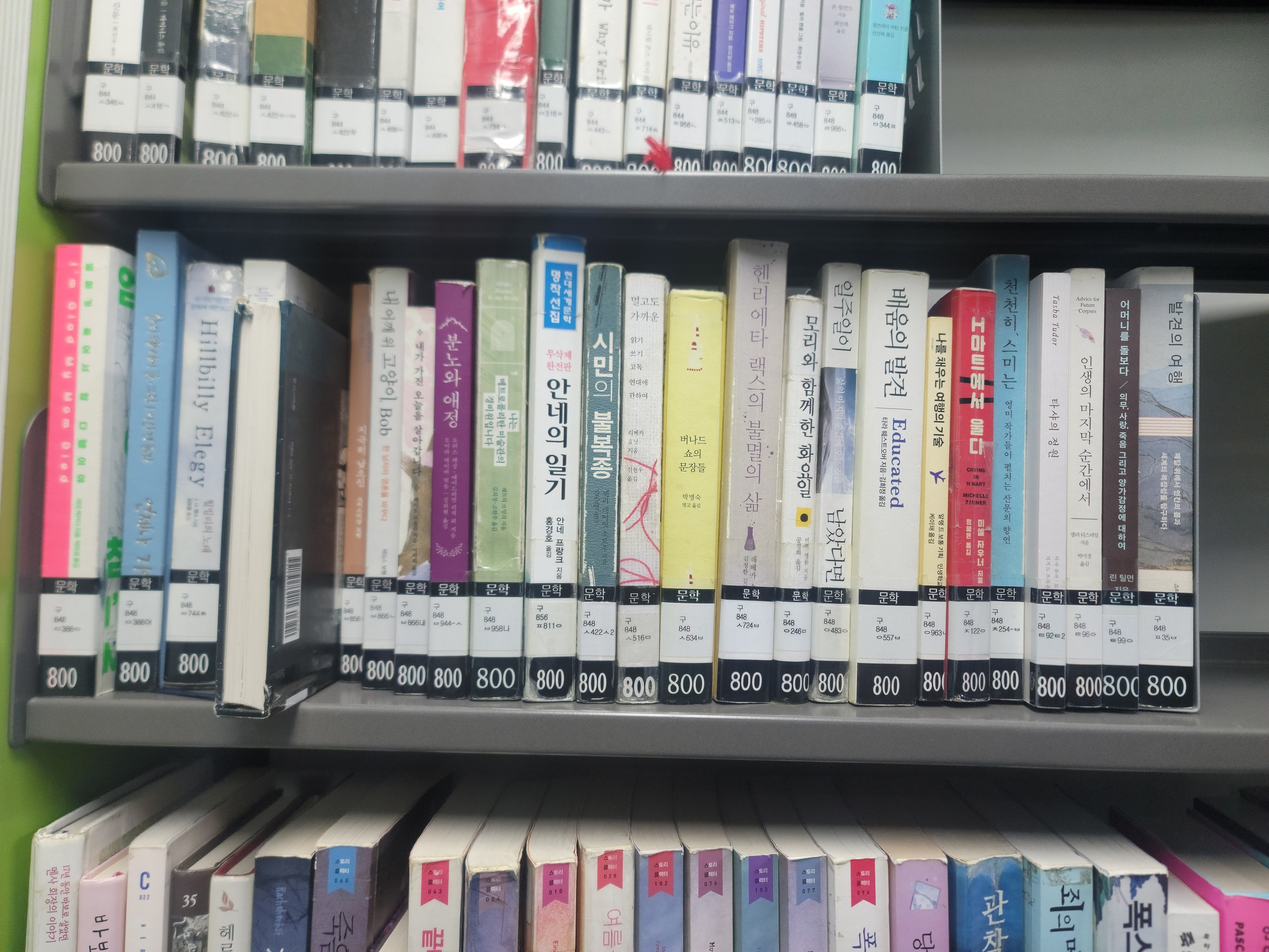book-spine: (33, 244, 111, 697), (714, 239, 789, 705), (159, 262, 238, 695), (851, 270, 928, 707), (215, 261, 286, 716), (112, 231, 181, 691), (521, 235, 585, 702), (657, 291, 726, 705), (467, 260, 529, 702), (1138, 268, 1196, 714), (810, 264, 862, 704), (615, 274, 666, 704), (770, 298, 824, 703), (573, 266, 623, 703), (427, 283, 475, 700), (948, 290, 995, 708), (361, 270, 406, 698), (987, 255, 1029, 708), (1065, 270, 1104, 709), (393, 308, 436, 698), (1103, 288, 1140, 711), (1035, 274, 1070, 710), (336, 285, 373, 697), (916, 316, 954, 707)
